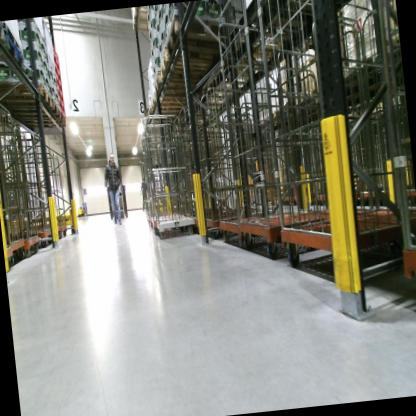pallet: (162, 12, 232, 54), (156, 48, 213, 87), (0, 71, 52, 113), (153, 65, 218, 98), (2, 95, 61, 125), (13, 105, 69, 135), (144, 101, 190, 131), (146, 88, 195, 114), (2, 32, 24, 72), (0, 21, 7, 46)
